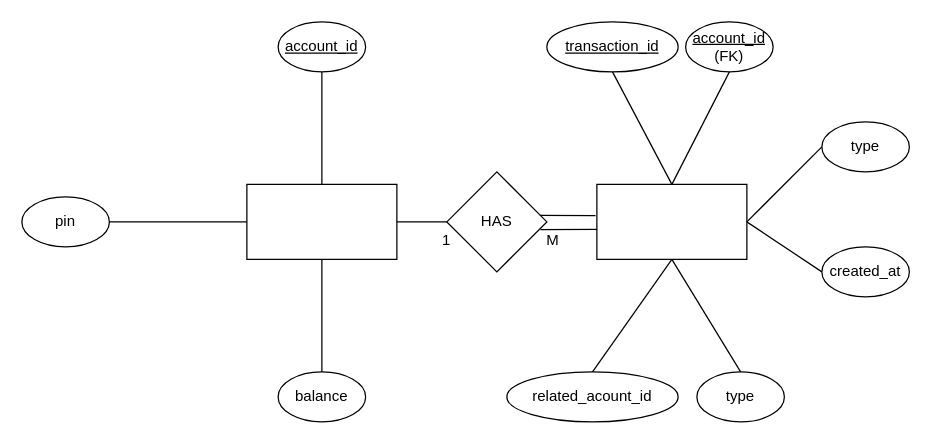
Image size: 931x444. Some labels were removed from this diagram. Here are the shapes that lost their labels. From the top down, the centre of each, then its label:
the point at 321,221: ACCOUNT
the point at 671,221: TRANSACTION
